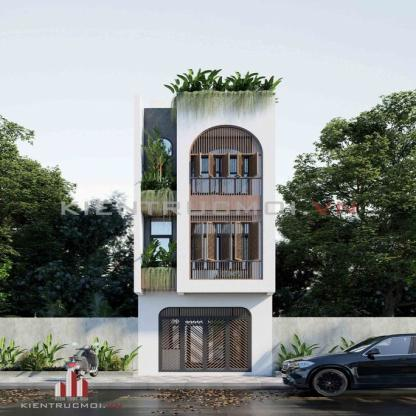Balcony: (191, 261, 262, 279), (191, 177, 262, 195)
Building Outline: (134, 91, 276, 376)
Door: (170, 324, 244, 368)
Facade: (134, 91, 277, 376)
Floor Slab: (135, 282, 275, 289), (135, 209, 275, 215)
Window: (190, 126, 263, 280), (193, 149, 249, 193), (221, 237, 249, 269), (192, 237, 220, 269), (193, 224, 249, 233), (193, 270, 249, 279), (170, 318, 244, 323), (154, 238, 170, 261), (151, 139, 172, 156), (151, 218, 172, 235)
